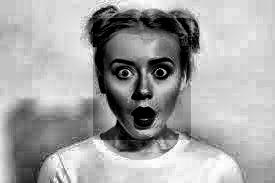surprised: (94, 18, 192, 140)
